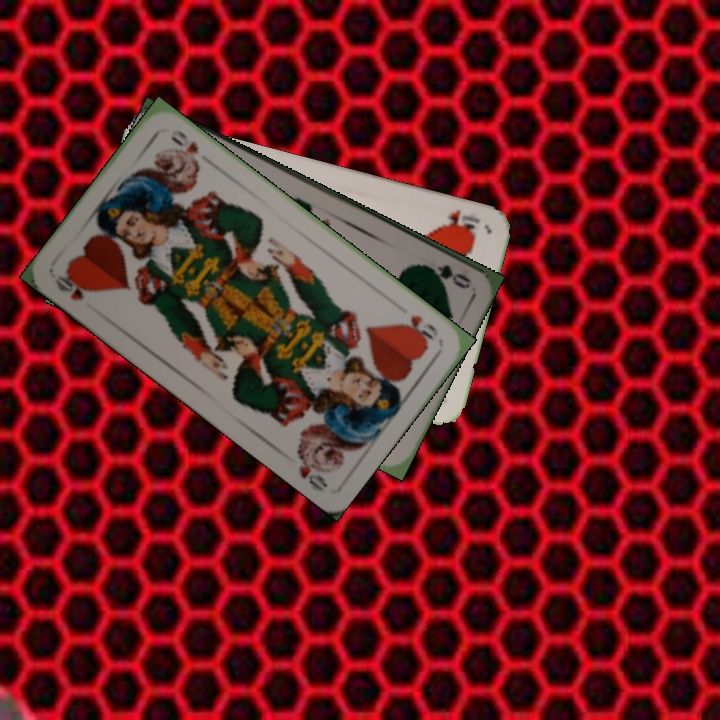GO: (415, 260, 473, 292)
HO: (50, 268, 95, 303), (397, 311, 442, 345), (438, 205, 483, 237)
